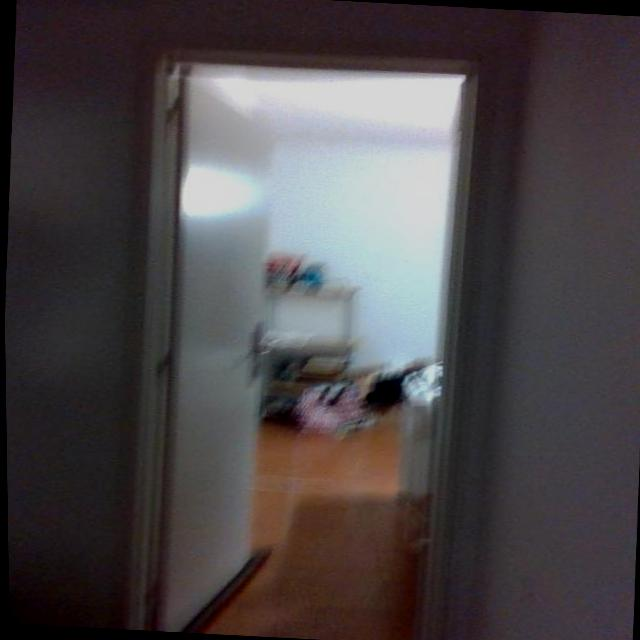open: (119, 34, 507, 639)
